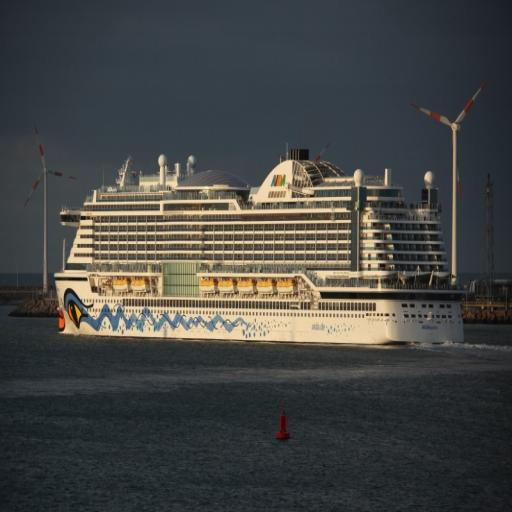cruises: (55, 147, 477, 353)
